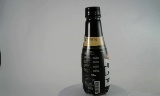appyfizz: (75, 5, 103, 95)
